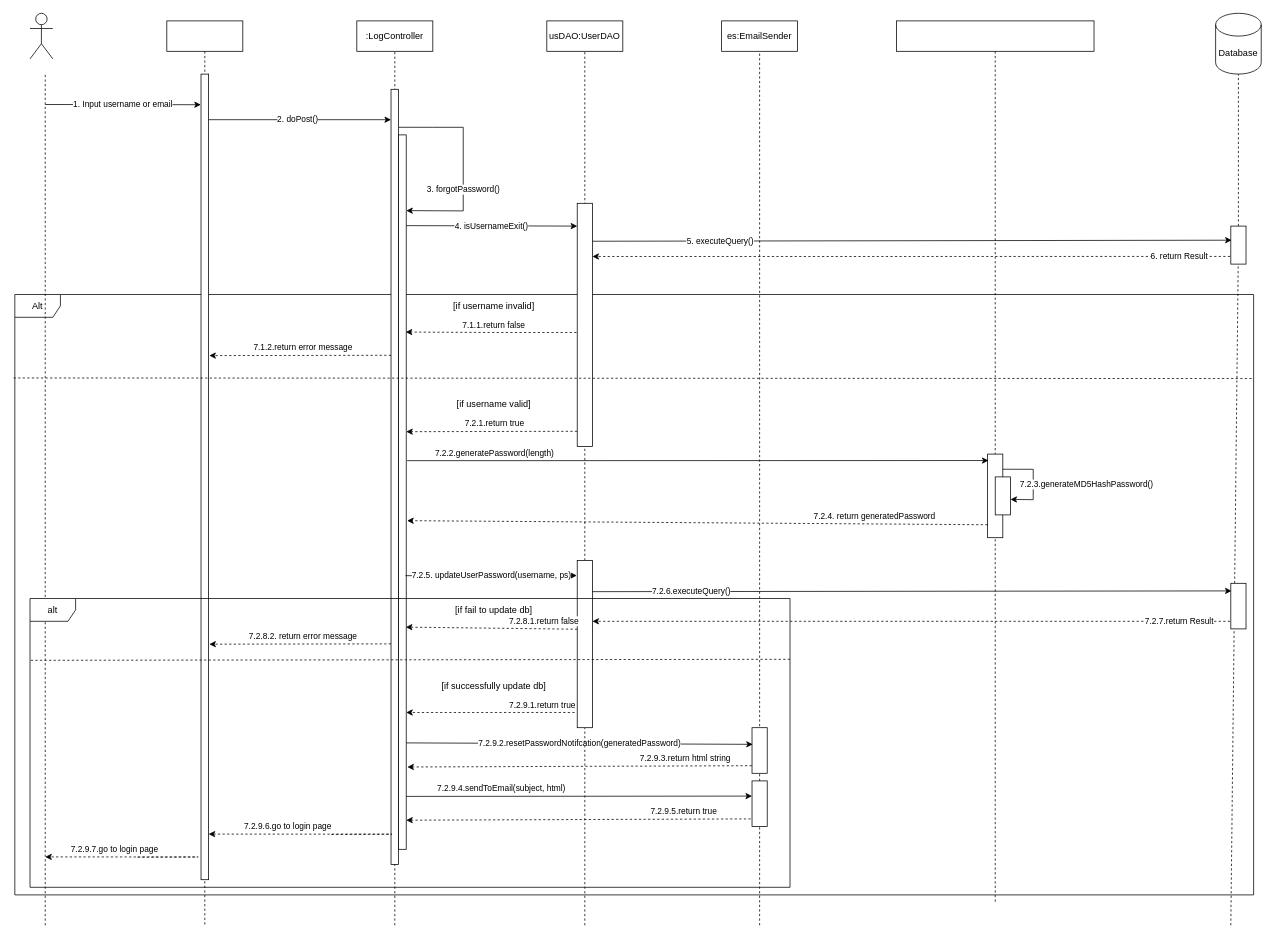
The diagram is 1275 pixels wide and 939 high, and some of its shapes have lost their labels. The box of each missing label's shape, as (x1, y1, x2, y2) in pixels:
:Generator: (896, 20, 1094, 902)
Guest: (29, 13, 53, 59)
Login Page: (166, 20, 243, 925)
